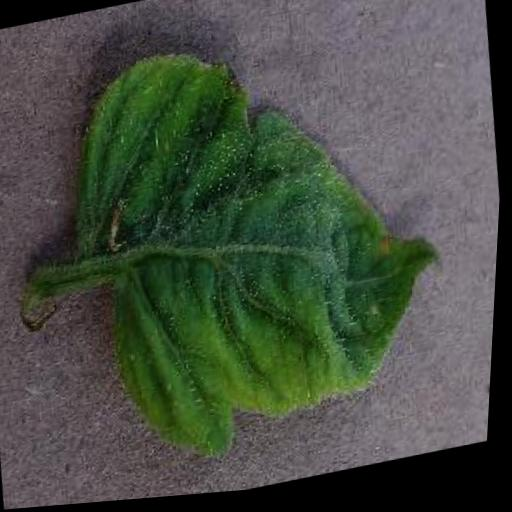Yellow Leaf Curl Virus: (46, 6, 474, 485)
